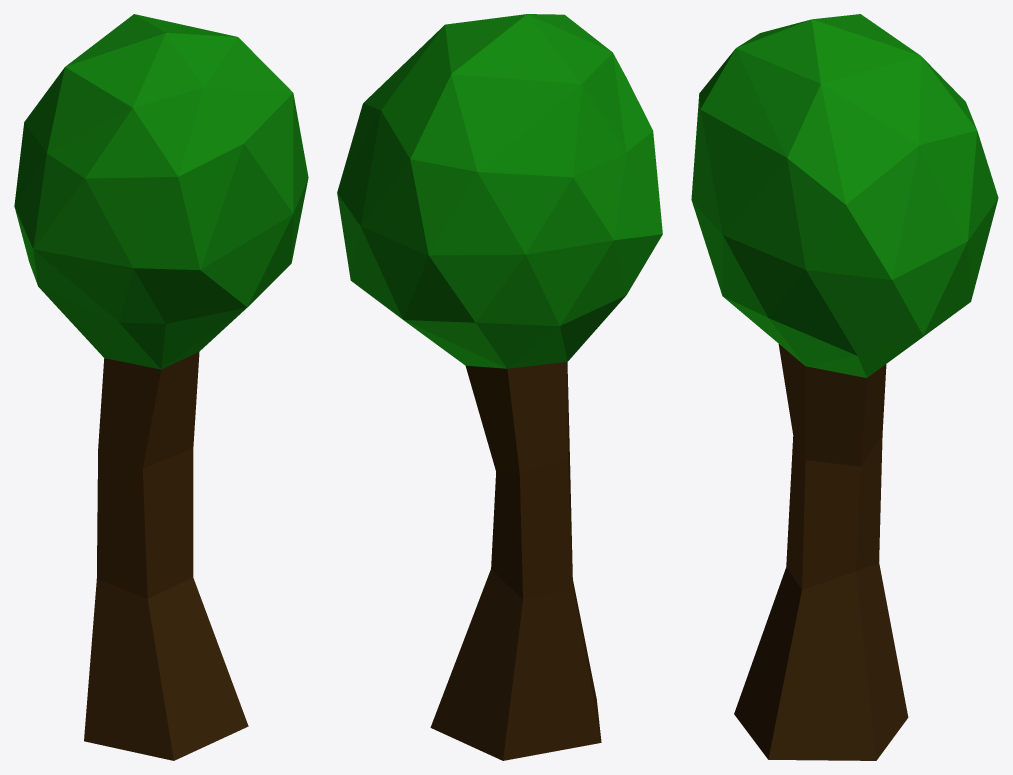
Rendered from Arbre1.fbx.
3 views of the same model, side by side, from view 1: azimuth 30°, elevation 25°; view 2: azimuth 150°, elevation 25°; view 3: azimuth 270°, elevation 25° (orthographic). The views are drawn at different scales.
Visible parts, largest first — view 1: Arbre1; view 2: Arbre1; view 3: Arbre1.
Boxes of the visible parts, x1=… form: Arbre1: x1=14, y1=14, x2=308, y2=760; Arbre1: x1=337, y1=14, x2=662, y2=760; Arbre1: x1=691, y1=14, x2=998, y2=760.
Size of the model in its own units: 207 by 488 by 191.
